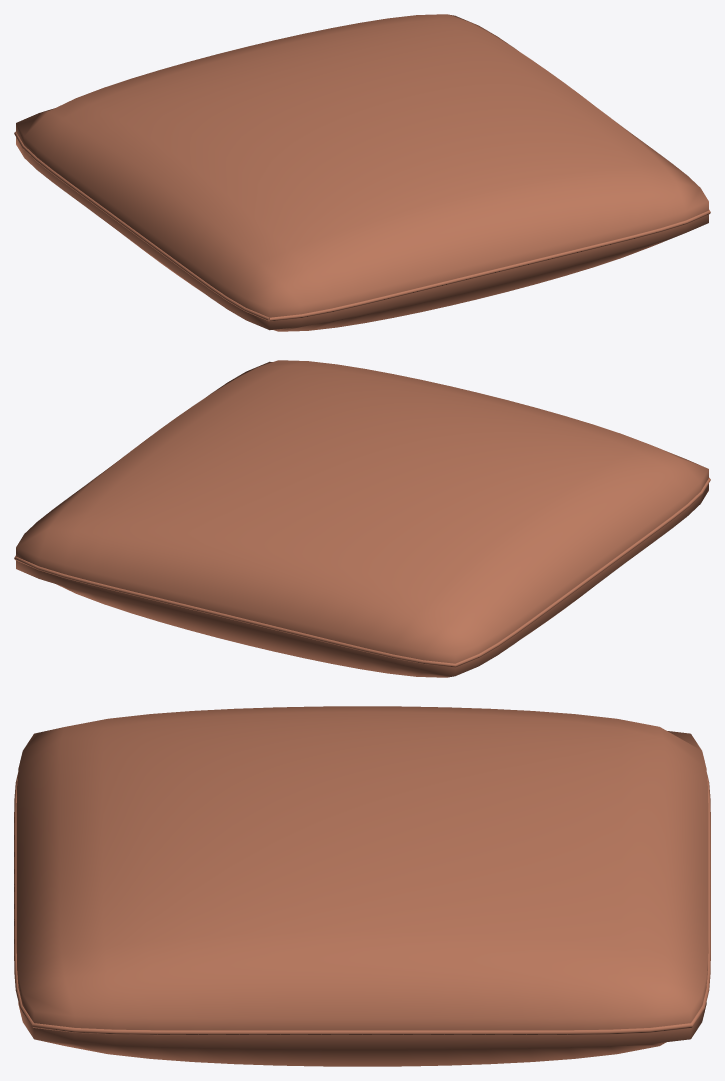
File: loose-cushion.glb
The picture shows the model from 3 angles, top to bottom: view 1: azimuth 30°, elevation 25°; view 2: azimuth 150°, elevation 25°; view 3: azimuth 270°, elevation 25°; orthographic projection. The views are drawn at different scales.
Visible parts, largest first — view 1: loose-cushion authored assembly; view 2: loose-cushion authored assembly; view 3: loose-cushion authored assembly.
Boxes of the visible parts, box(x1,y1,x2,y2) form: loose-cushion authored assembly: box(14, 14, 710, 331); loose-cushion authored assembly: box(14, 360, 710, 677); loose-cushion authored assembly: box(14, 706, 710, 1066).
Size of the model in its own units: 0.45 by 0.125 by 0.45.
